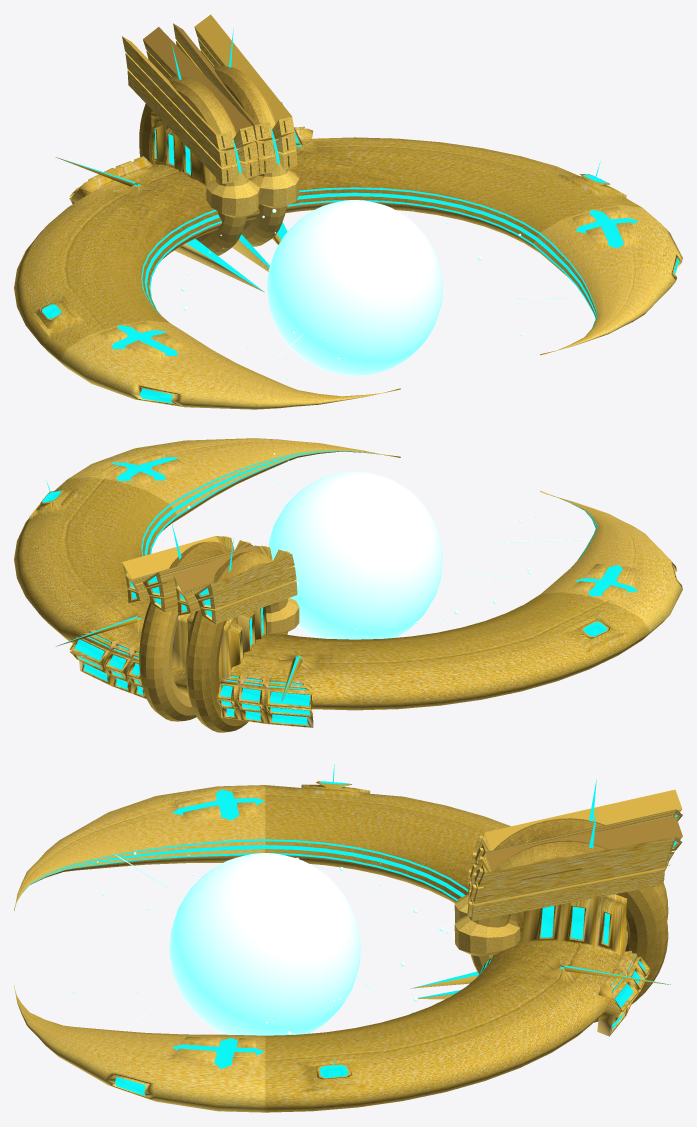
Rendered from tempest.glb.
3 views of the same model, one above another, from view 1: azimuth 30°, elevation 25°; view 2: azimuth 150°, elevation 25°; view 3: azimuth 270°, elevation 25° (orthographic). The views are drawn at different scales.
Parts seen in each view (by area): view 1: Torus.003_0, Sphere_2; view 2: Torus.003_0, Sphere_2; view 3: Torus.003_0, Sphere_2.
Boxes of the visible parts, bbox=[...] form: Torus.003_0: bbox=[14, 14, 682, 409]; Sphere_2: bbox=[267, 200, 442, 376]; Torus.003_0: bbox=[14, 438, 682, 732]; Sphere_2: bbox=[268, 471, 442, 639]; Torus.003_0: bbox=[14, 764, 682, 1112]; Sphere_2: bbox=[169, 853, 360, 1035].
Bounding box in the file's own units: 9.58 × 3.43 × 8.64.
Materials: 6 (2 with a texture image).
